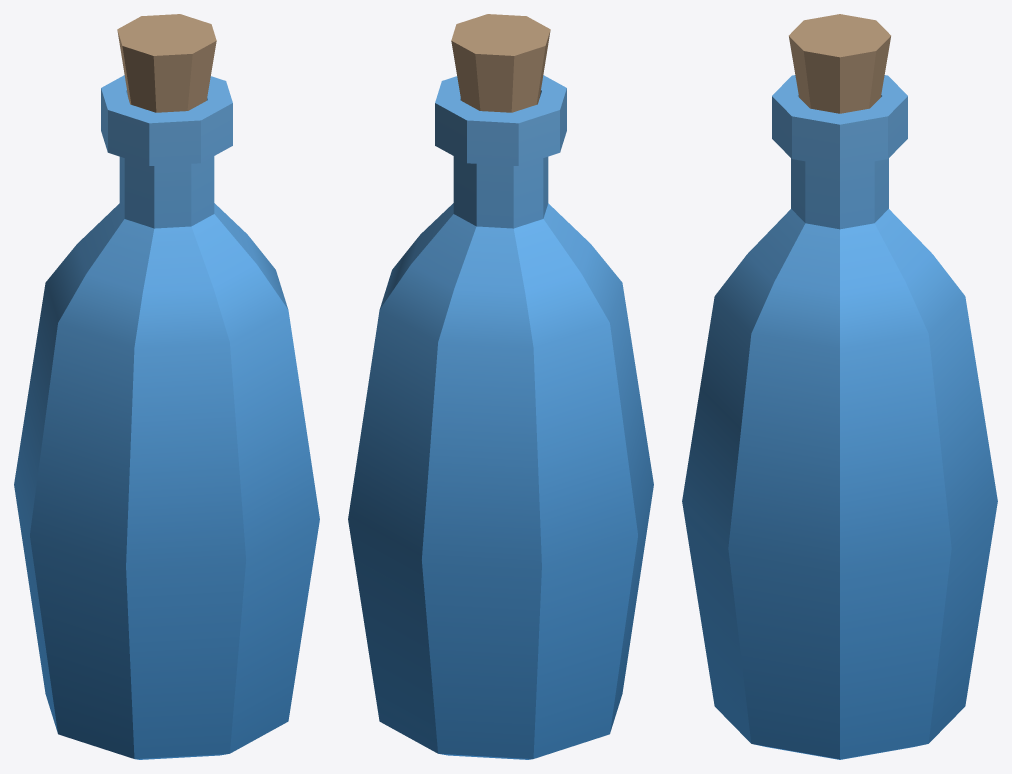
Rendered from Bottle_15.fbx.
3 views of the same model, side by side, from view 1: azimuth 30°, elevation 25°; view 2: azimuth 150°, elevation 25°; view 3: azimuth 270°, elevation 25° (orthographic).
Visible parts, largest first — view 1: Bottle_15_LOD0; view 2: Bottle_15_LOD0; view 3: Bottle_15_LOD0.
Part boxes in pixels (<box>): Bottle_15_LOD0: <box>14,14,319,759</box>; Bottle_15_LOD0: <box>348,14,653,759</box>; Bottle_15_LOD0: <box>682,14,997,759</box>.
Size of what is drawn, in the model's own units: 0.1042 by 0.2476 by 0.1042.
